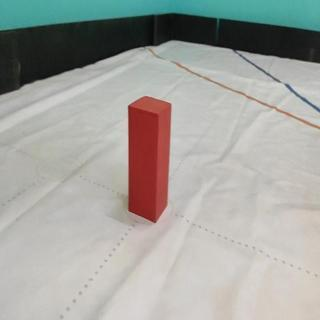redbox: (127, 93, 172, 224)
